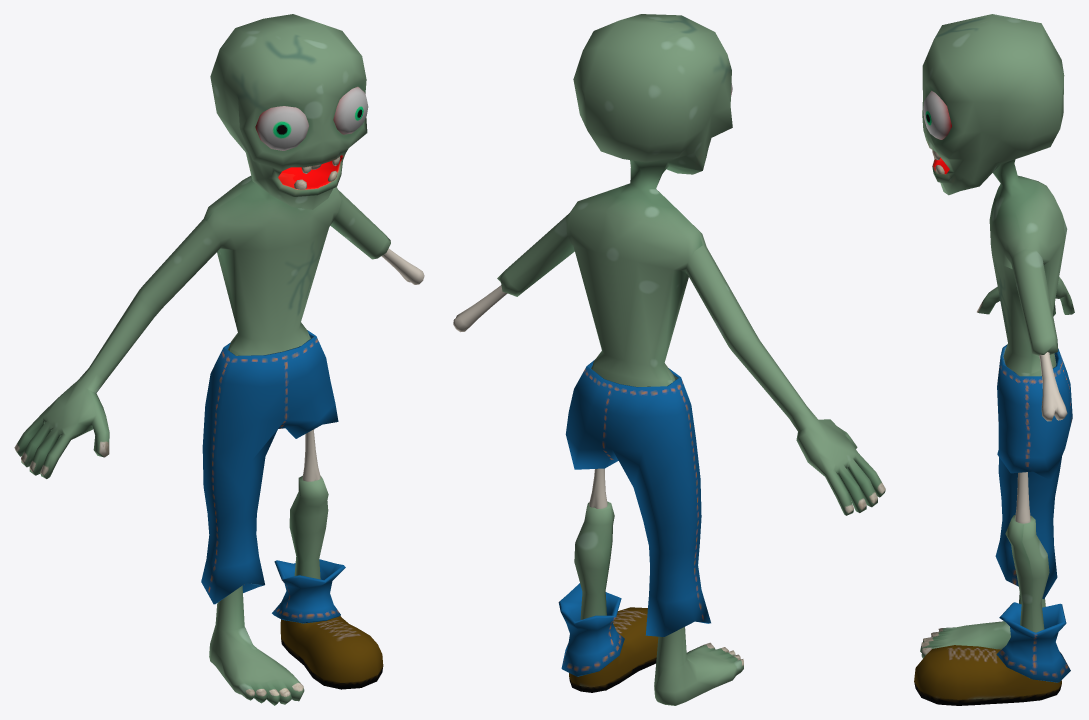
The model's file is zzzz.fbx.
3 renders of one model, left to right at view 1: azimuth 30°, elevation 25°; view 2: azimuth 150°, elevation 25°; view 3: azimuth 270°, elevation 25°, orthographic.
Parts seen in each view (by area): view 1: zombie 2; view 2: zombie 2; view 3: zombie 2.
Part boxes in pixels (x1,y1,x2,y2): zombie 2: (14,14,424,705); zombie 2: (453,14,885,705); zombie 2: (914,14,1074,705).
Bounding box in the file's own units: 290 × 443 × 99.56.
